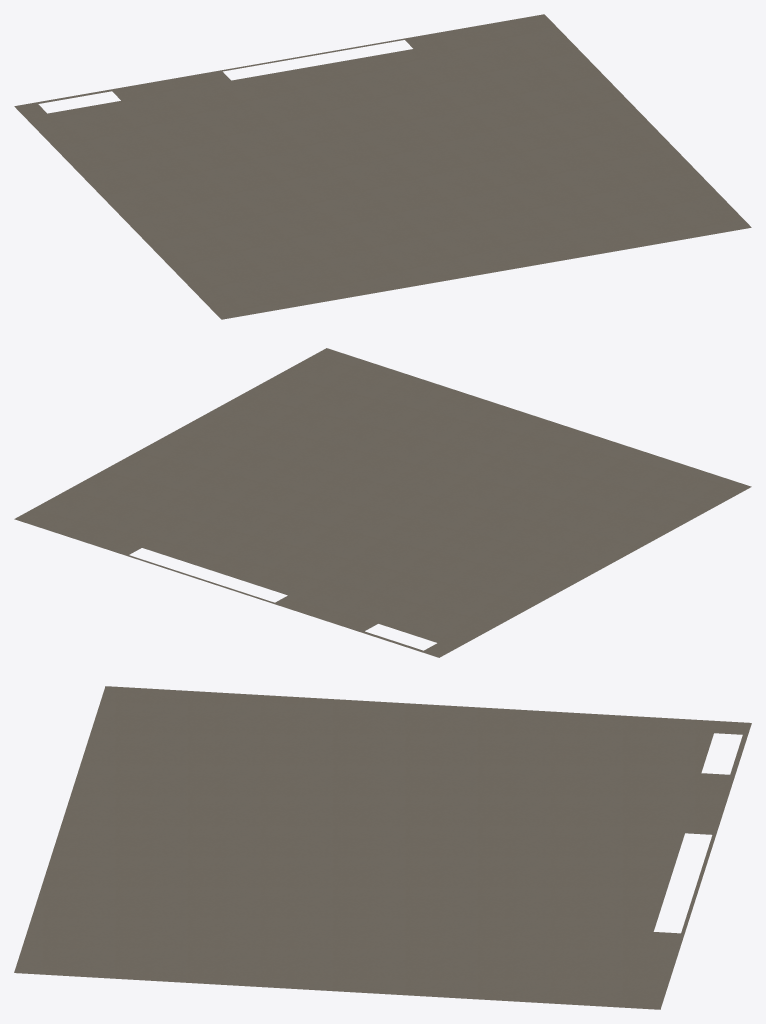
Rendered from coarse.glb.
3 renders of one model, top to bottom at view 1: azimuth 30°, elevation 25°; view 2: azimuth 150°, elevation 25°; view 3: azimuth 270°, elevation 25°, orthographic. The views are drawn at different scales.
Bounding box in the file's own units: 10.57 × 2.66e-15 × 10.18.
1 material, 1 textured.
